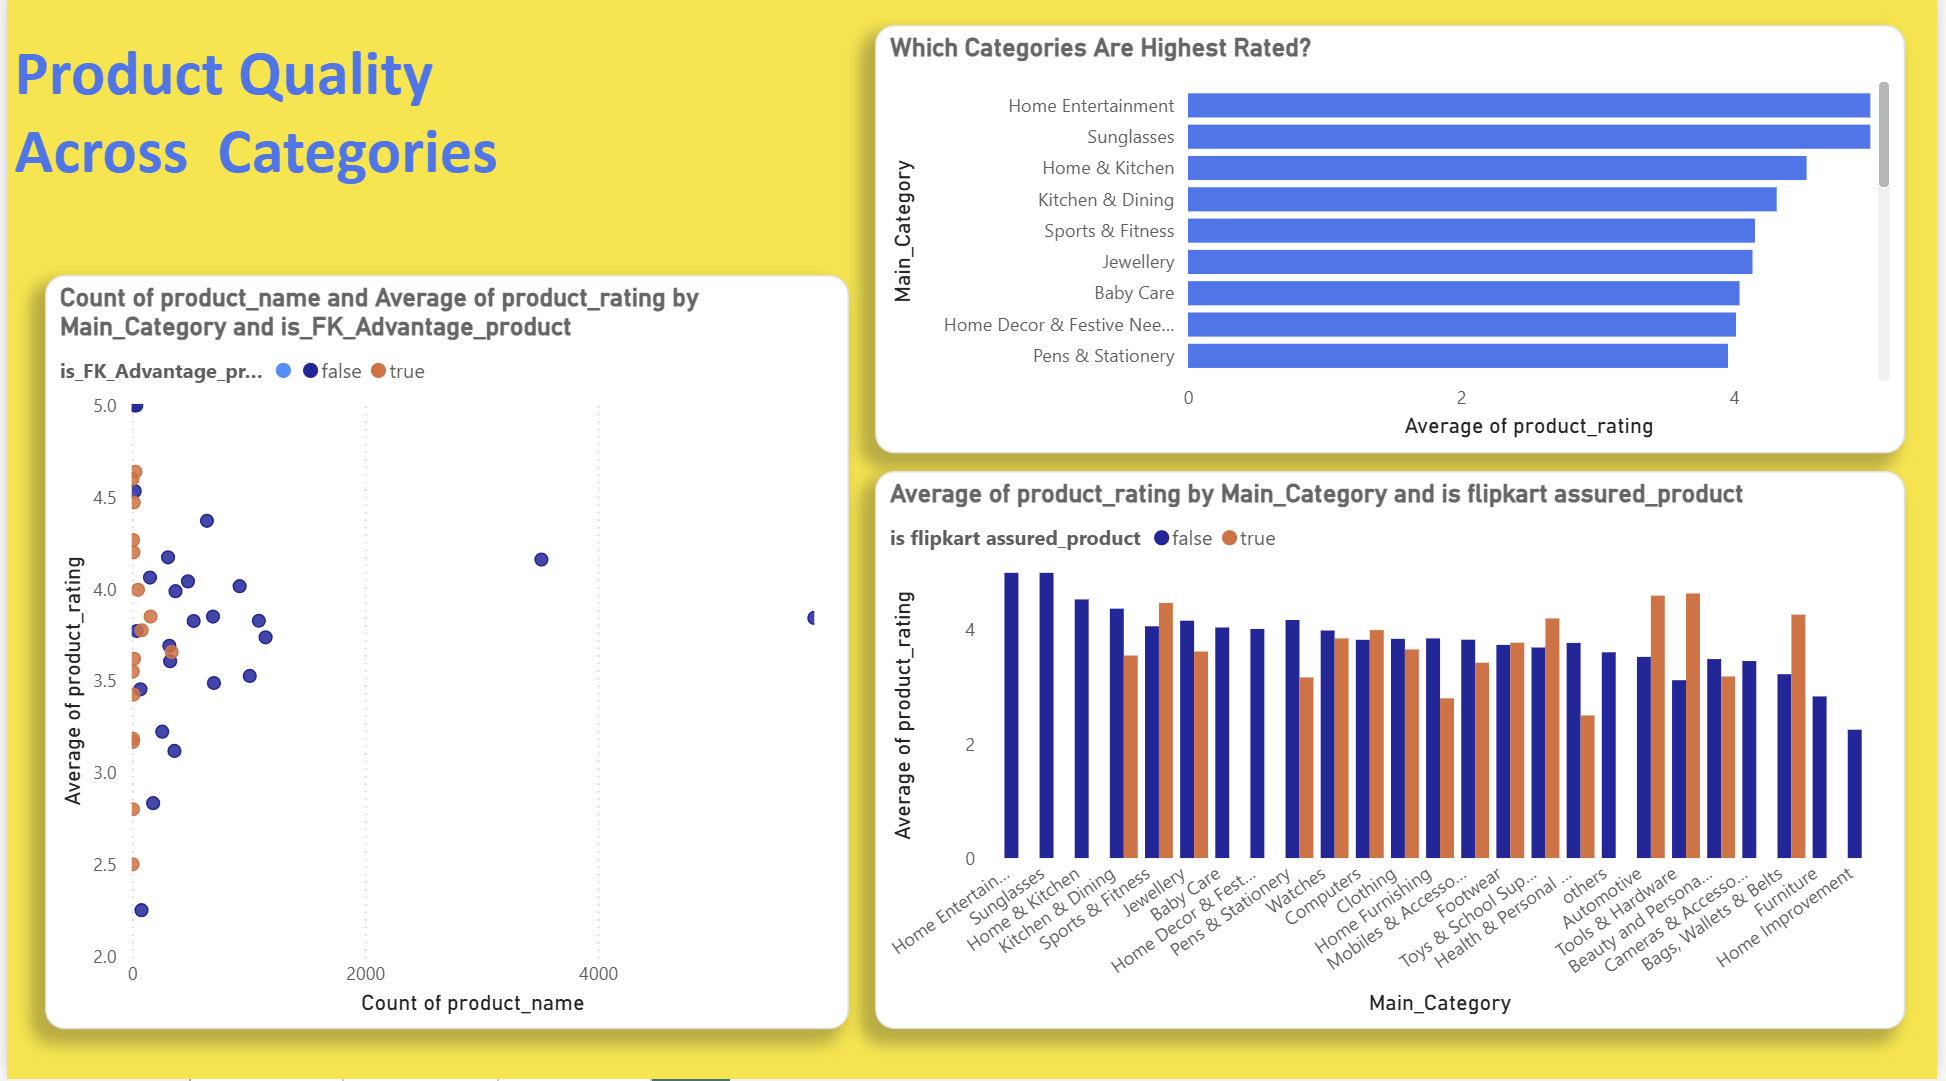

What the dashboard file says about the page in this screenshot:
{"tool":"powerbi","page":{"name":"Page 2","canvas":[1280,720],"ordinal":1},"visuals":[{"type":"barChart","title":"Which Categories Are Highest Rated?","fields":{"Y":["Avg(flipkart_com-ecommerce_sample.product_rating)"],"Category":["flipkart_com-ecommerce_sample.Main_Category"]},"box":[575.5,21.2,682.9,283.8],"z":0},{"type":"clusteredColumnChart","fields":{"Category":["flipkart_com-ecommerce_sample.Main_Category"],"Y":["Avg(flipkart_com-ecommerce_sample.product_rating)"],"Series":["flipkart_com-ecommerce_sample.is_FK_Advantage_product"]},"box":[575.5,316.9,682.9,369.9],"z":1000},{"type":"textbox","box":[0,21.2,342.1,132.6],"z":2000},{"type":"scatterChart","fields":{"Category":["flipkart_com-ecommerce_sample.Main_Category"],"Y":["Avg(flipkart_com-ecommerce_sample.product_rating)"],"X":["flipkart_com-ecommerce_sample.product_name"],"Series":["flipkart_com-ecommerce_sample.is_FK_Advantage_product"]},"box":[25.2,187,533,499.9],"z":3000}]}

Visuals, with their boxes in screenshot pixels (x1, y1, x2, y2), scaled from the page's 1280x720 canvas onto the 1946x1081 screenshot:
"Which Categories Are Highest Rated?" barChart: BBox(875, 32, 1913, 458)
clusteredColumnChart - flipkart_com-ecommerce_sample.Main_Category x Avg(flipkart_com-ecommerce_sample.product_rating): BBox(875, 476, 1913, 1031)
textbox: BBox(0, 32, 520, 231)
scatterChart - flipkart_com-ecommerce_sample.Main_Category x Avg(flipkart_com-ecommerce_sample.product_rating): BBox(38, 281, 849, 1031)
